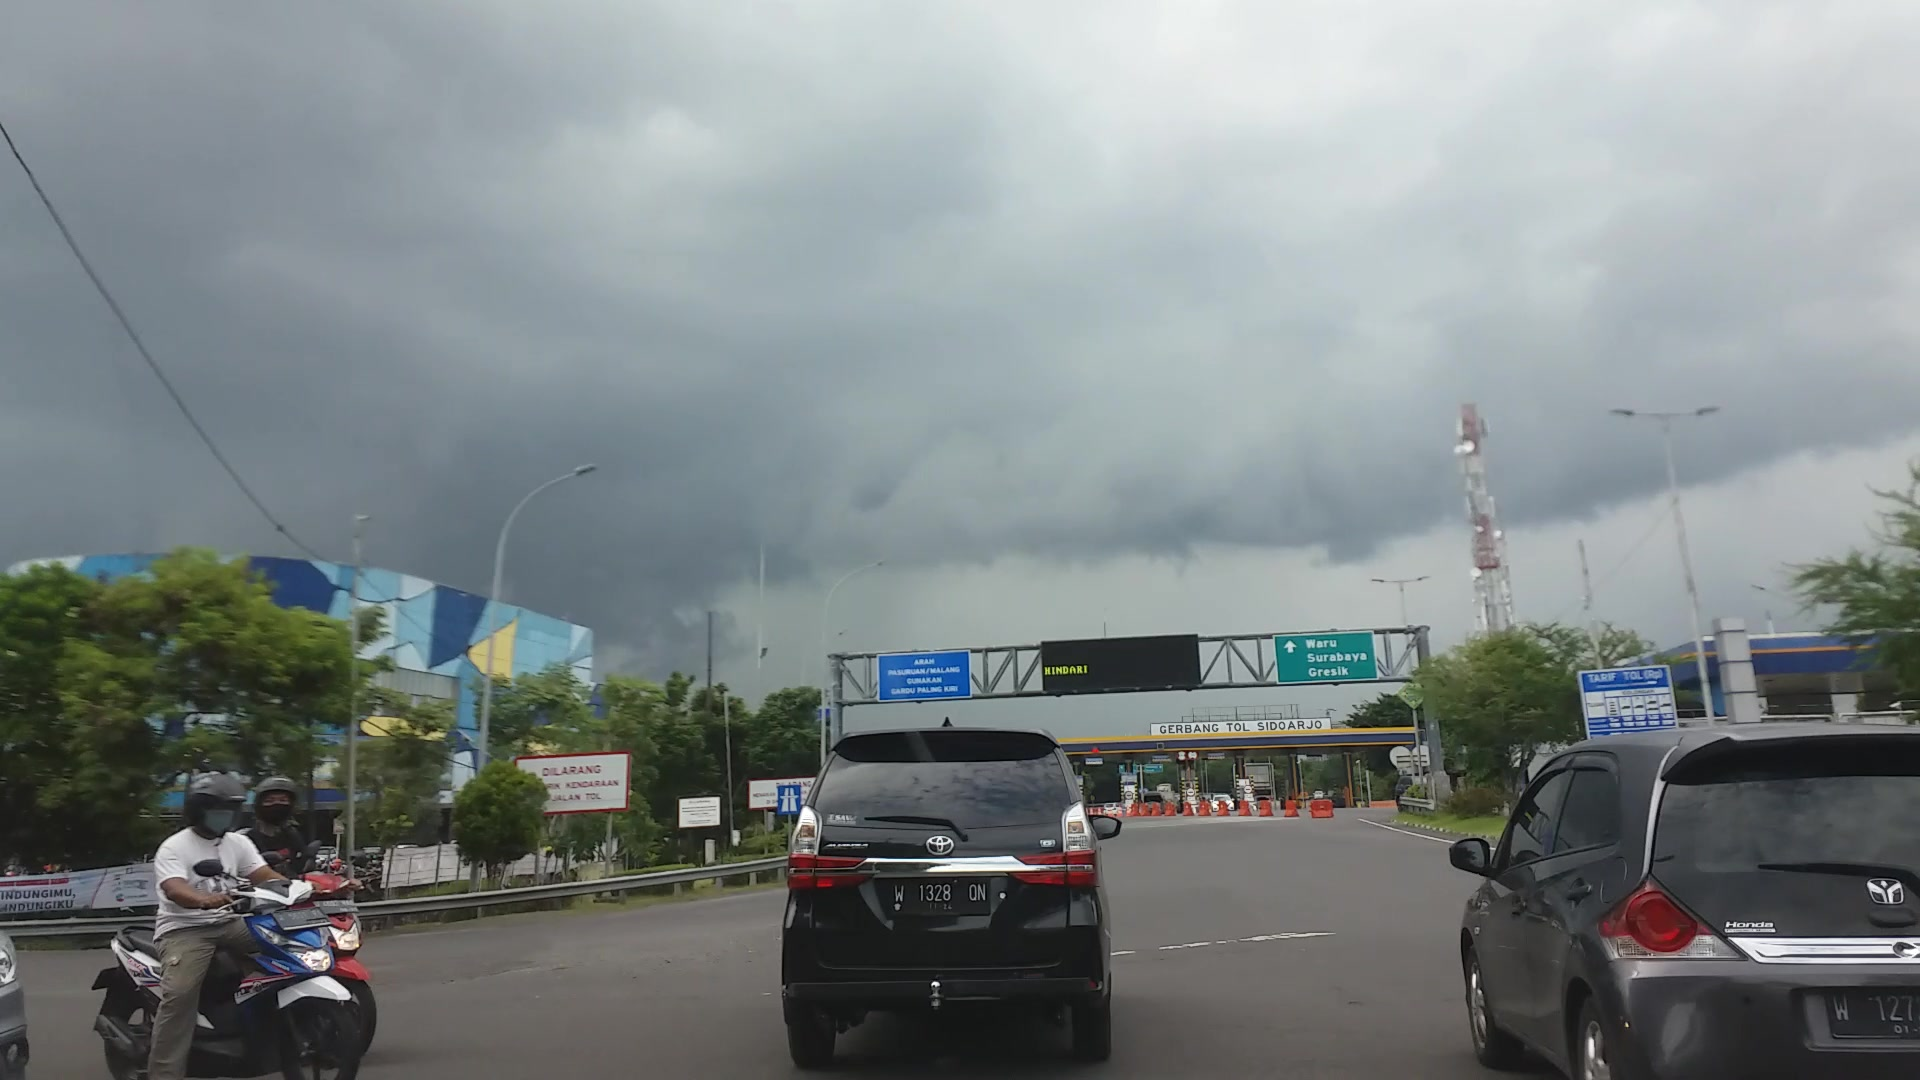plate_positive: (891, 877, 992, 916)
